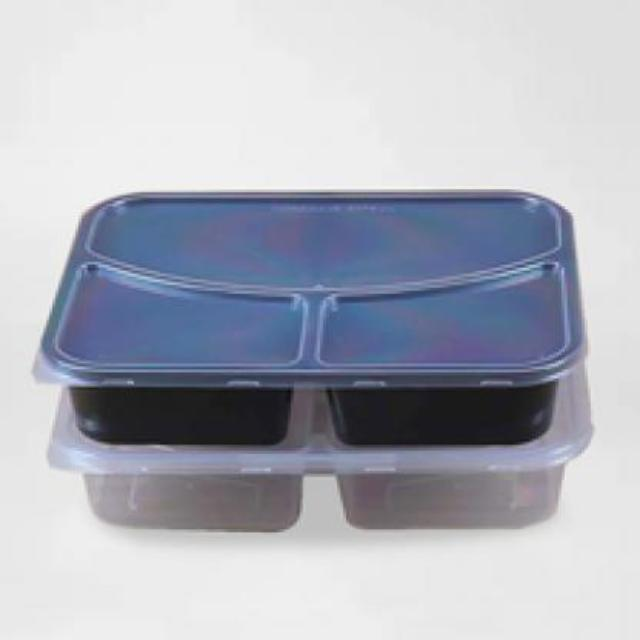plastic_box: (46, 190, 588, 532)
